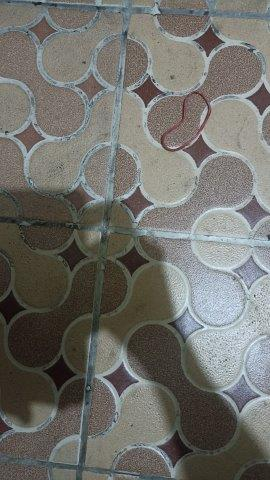karet: (161, 92, 212, 152)
